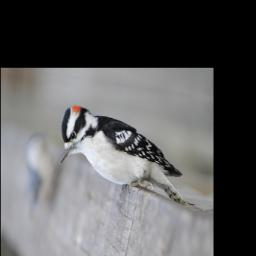Woodpecker: (50, 93, 203, 209)
